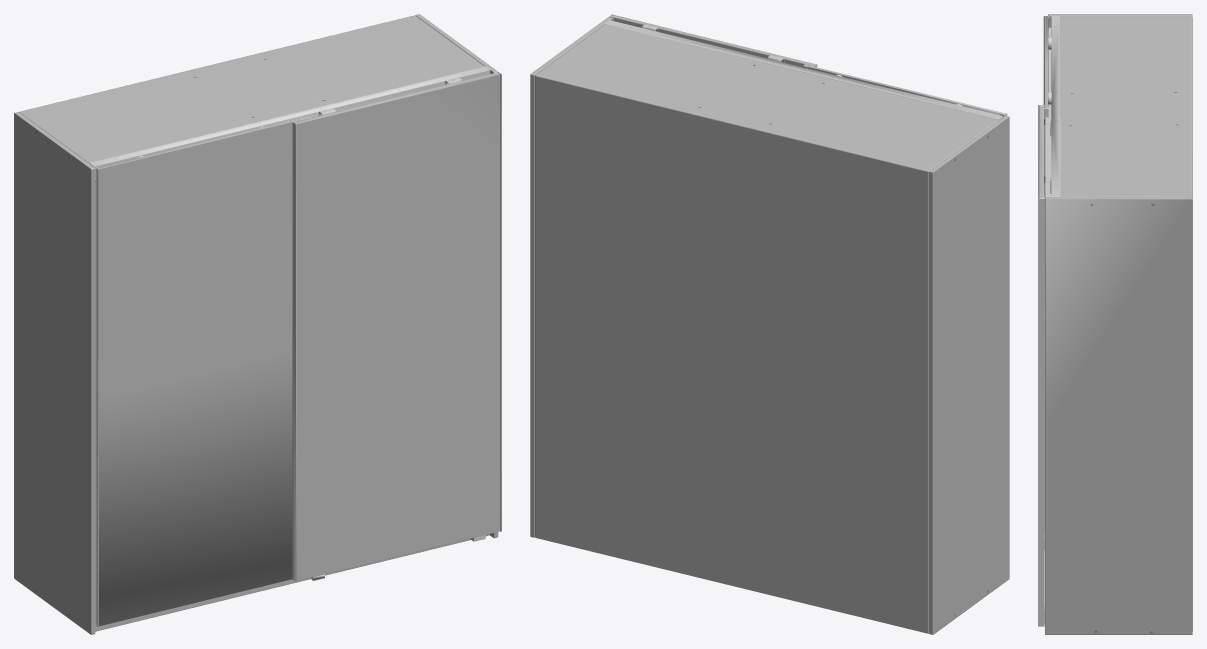
The model's file is wardrobe_abo_B07GFSJ69T.glb.
The picture shows the model from 3 angles, left to right: view 1: azimuth 30°, elevation 25°; view 2: azimuth 150°, elevation 25°; view 3: azimuth 270°, elevation 25°; orthographic projection. The views are drawn at different scales.
Visible parts, largest first — view 1: RootNode; view 2: RootNode; view 3: RootNode.
Boxes of the visible parts, x1,y1,x2,y2 form: RootNode: (14, 14, 501, 634); RootNode: (530, 14, 1009, 634); RootNode: (1038, 14, 1192, 634).
Bounding box in the file's own units: 1.78 × 1.96 × 0.6292.
Materials: 1 (1 with a texture image).
